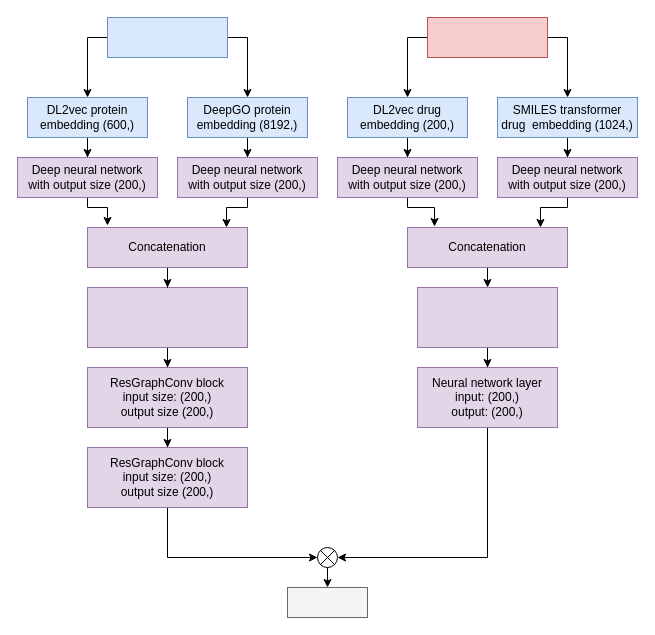
Some shapes in this 655 by 635 pixel diagram are drawn without their labels. Here are the shapes that lost their labels. From the top down, the box of each, then its label:
(106, 16, 228, 58): Protein
(426, 16, 548, 58): Drug
(86, 286, 248, 348): ResGraphConv block input size: (400,) output size (200,)
(416, 286, 558, 348): Neural network layer input: (400,) output: (200,)
(286, 586, 368, 618): Prediction
